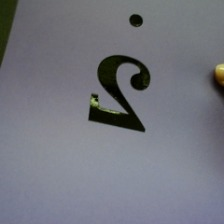violet2: (88, 10, 159, 144)
